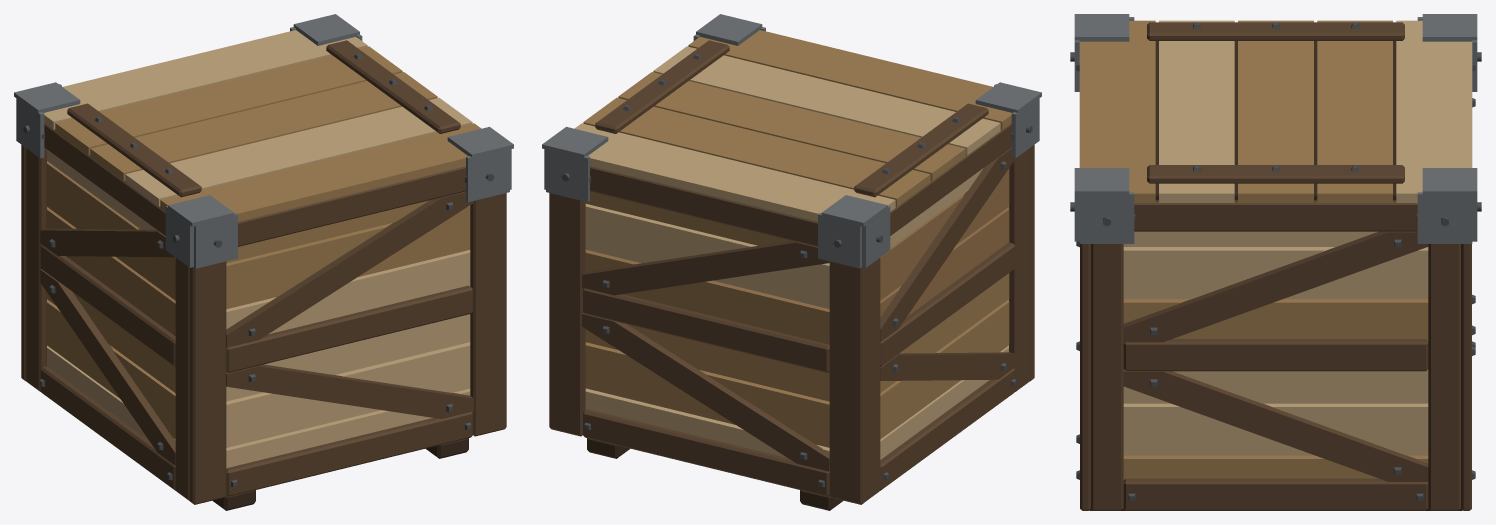
The model's file is SM_LPD_Crate_CrateLarge_01.fbx.
3 views of the same model, side by side, from view 1: azimuth 30°, elevation 25°; view 2: azimuth 150°, elevation 25°; view 3: azimuth 270°, elevation 25° (orthographic). The views are drawn at different scales.
Parts seen in each view (by area): view 1: SM_LPD_Crate_CrateLarge_01; view 2: SM_LPD_Crate_CrateLarge_01; view 3: SM_LPD_Crate_CrateLarge_01.
Part boxes in pixels (box(x1,y1,x2,y2)): SM_LPD_Crate_CrateLarge_01: box(14, 14, 513, 510); SM_LPD_Crate_CrateLarge_01: box(542, 14, 1041, 510); SM_LPD_Crate_CrateLarge_01: box(1070, 14, 1481, 510).
Bounding box in the file's own units: 1.02 × 0.915 × 0.976.
